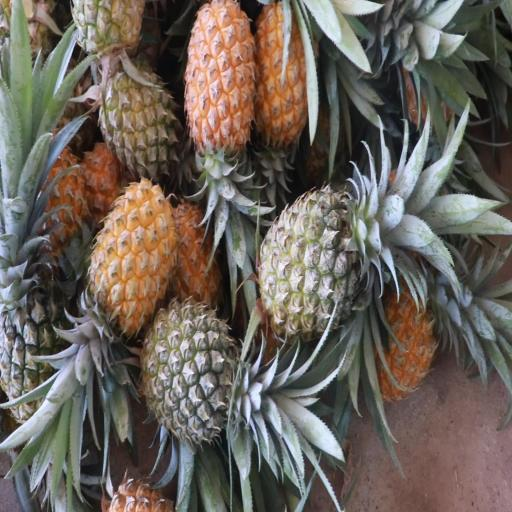Pineapple - v8 v1: (77, 180, 181, 367), (184, 0, 256, 213), (254, 0, 310, 163)
